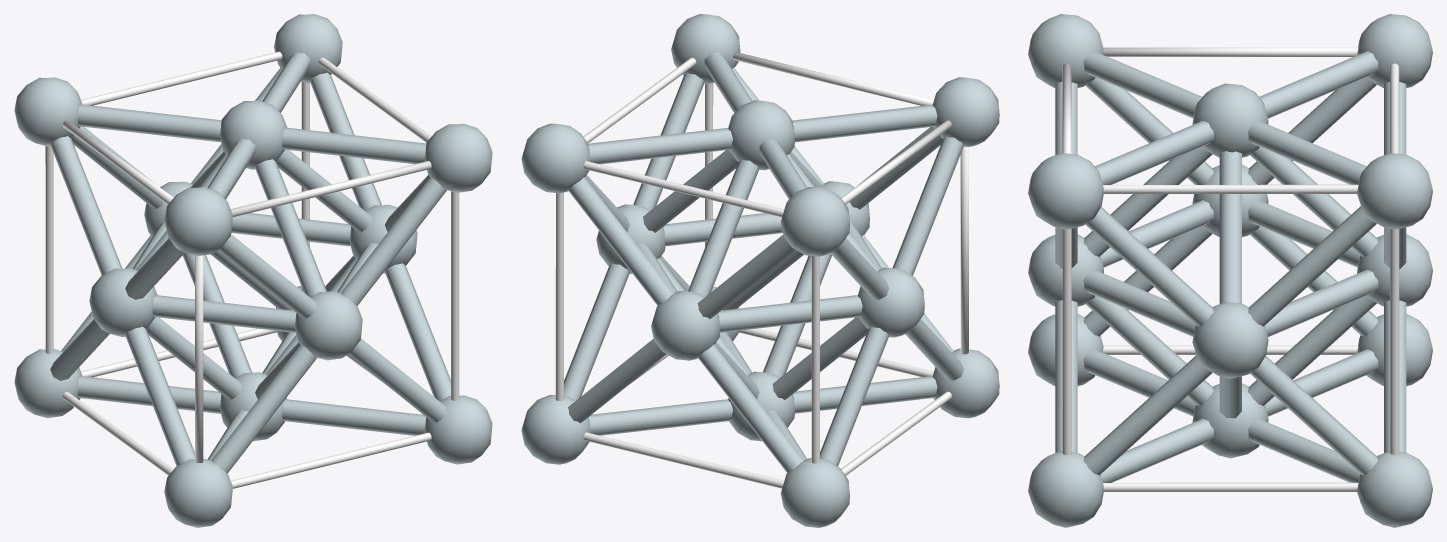
The model's file is ALUMINIO.fbx.
3 renders of one model, left to right at view 1: azimuth 30°, elevation 25°; view 2: azimuth 150°, elevation 25°; view 3: azimuth 270°, elevation 25°, orthographic. The views are drawn at different scales.
Parts seen in each view (by area): view 1: Al.002, limite.007; view 2: Al.002, limite.007; view 3: Al.002, limite.007.
Boxes of the visible parts, x1,y1,x2,y2 form: Al.002: (14,14,492,527); limite.007: (45,51,459,488); Al.002: (521,14,999,527); limite.007: (555,52,968,488); Al.002: (1028,14,1432,527); limite.007: (1062,47,1399,491).
Bounding box in the file's own units: 17.4 × 17.5 × 17.49.
